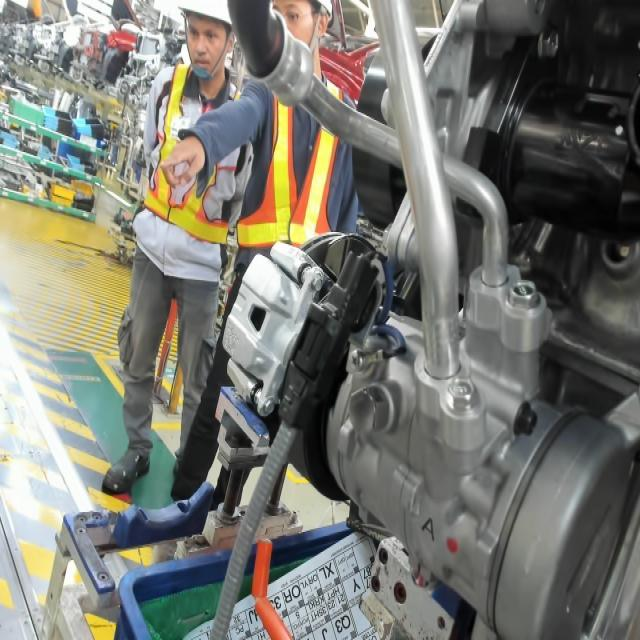Compressor-A: (416, 514, 439, 546)
